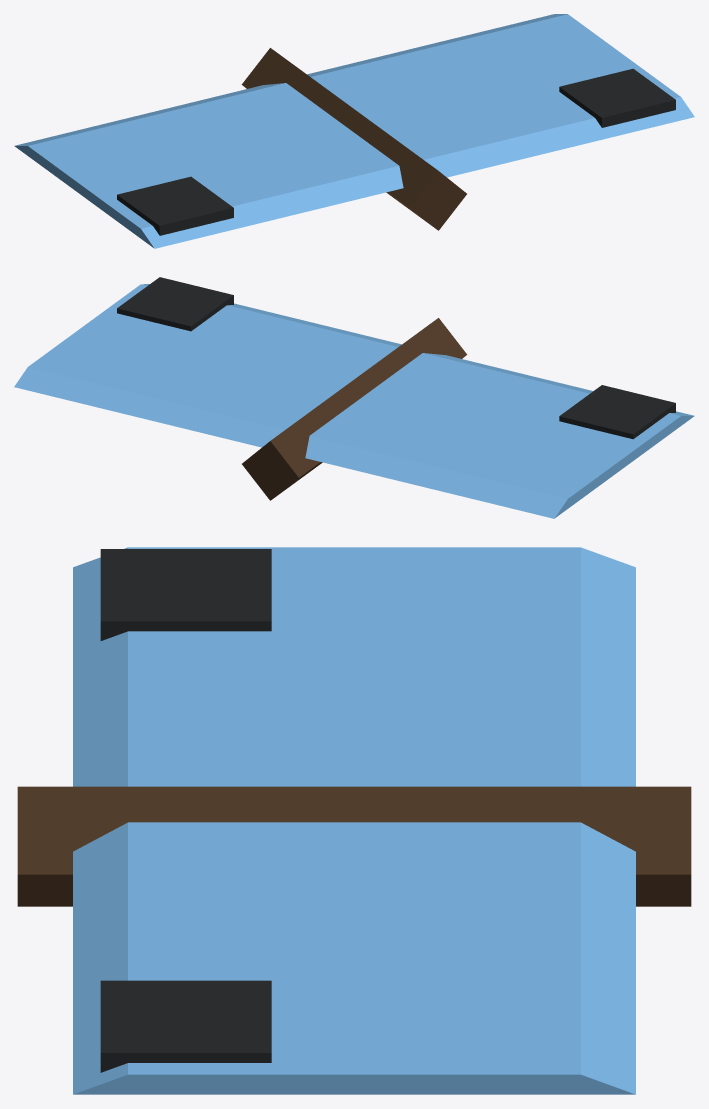
Rendered from butterfly-blue.glb.
3 renders of one model, top to bottom at view 1: azimuth 30°, elevation 25°; view 2: azimuth 150°, elevation 25°; view 3: azimuth 270°, elevation 25°, orthographic. The views are drawn at different scales.
Parts seen in each view (by area): view 1: wing_R, wing_L, butterfly-blue; view 2: wing_R, wing_L, butterfly-blue; view 3: wing_L, wing_R, butterfly-blue.
Part boxes in pixels (x1=…): wing_R: x1=14, y1=83, x2=403, y2=248; wing_L: x1=307, y1=14, x2=694, y2=177; butterfly-blue: x1=241, y1=48, x2=466, y2=230; wing_R: x1=305, y1=353, x2=694, y2=518; wing_L: x1=14, y1=277, x2=401, y2=447; butterfly-blue: x1=242, y1=318, x2=467, y2=500; wing_L: x1=73, y1=822, x2=635, y2=1094; wing_R: x1=73, y1=547, x2=635, y2=786; butterfly-blue: x1=17, y1=786, x2=691, y2=906.
Size of the model in its own units: 0.2207 by 0.0234 by 0.1191.
